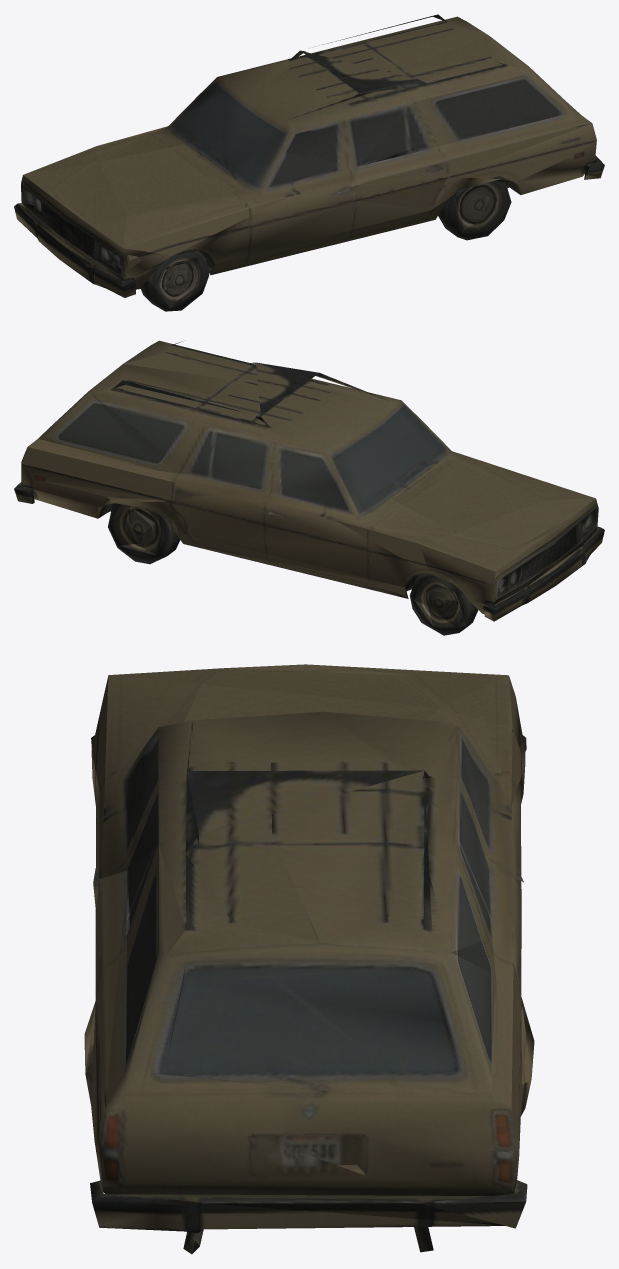
The model's file is car_wagon_light.glb.
3 renders of one model, top to bottom at view 1: azimuth 30°, elevation 25°; view 2: azimuth 150°, elevation 25°; view 3: azimuth 270°, elevation 25°, orthographic. The views are drawn at different scales.
Visible parts, largest first — view 1: output_unwrapped; view 2: output_unwrapped; view 3: output_unwrapped.
Part boxes in pixels (box(x1,y1,x2,y2)): output_unwrapped: box(14, 14, 604, 311); output_unwrapped: box(14, 340, 604, 635); output_unwrapped: box(84, 664, 534, 1254).
Bounding box in the file's own units: 4.81 × 1.5 × 1.9.
1 material, 1 textured.
